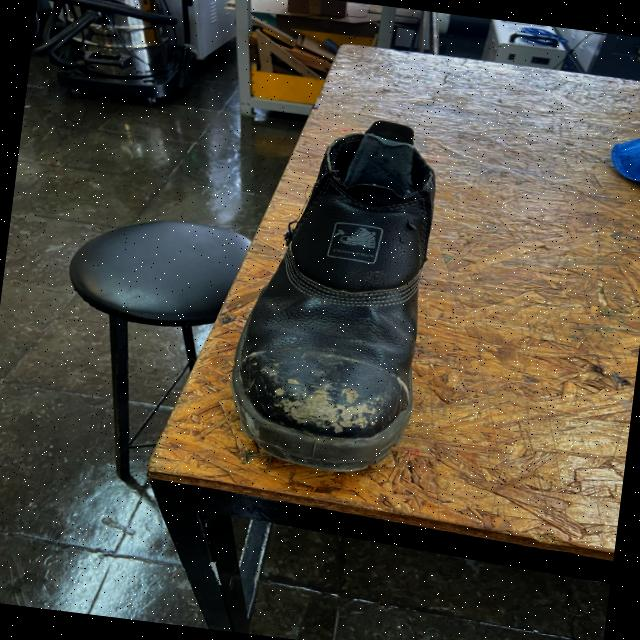BOTA: (220, 118, 445, 475)
